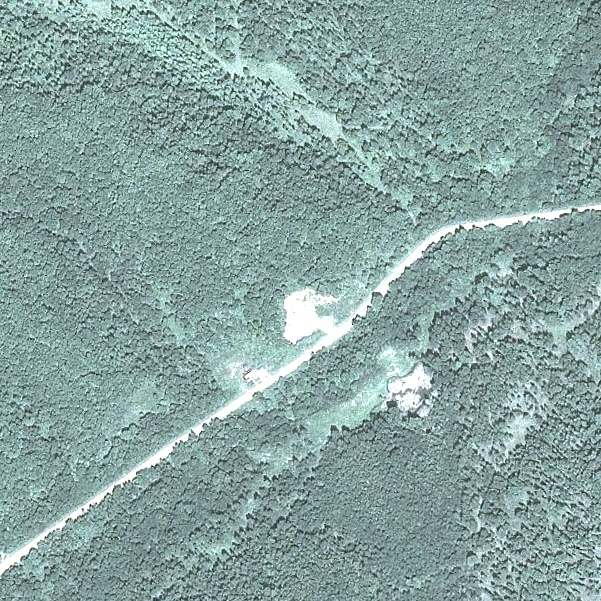slope: (278, 283, 340, 347)
